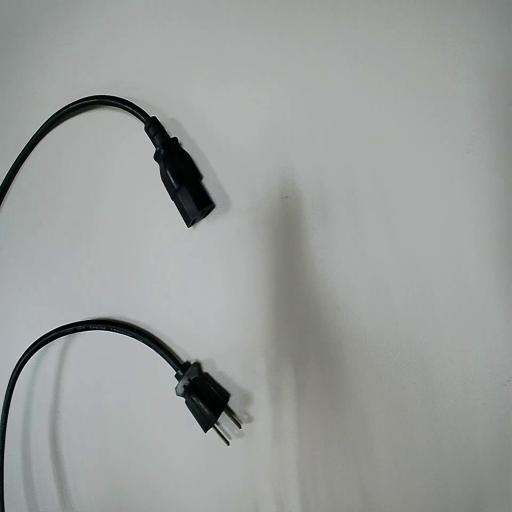wire: (0, 319, 239, 511), (0, 96, 213, 225)
